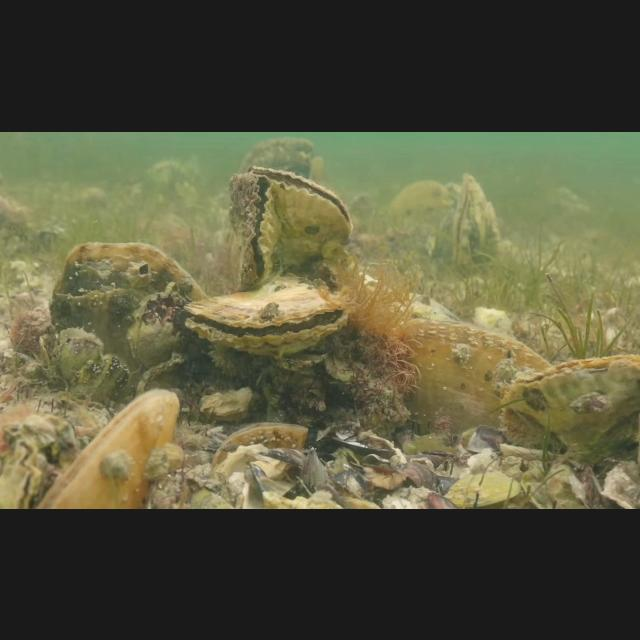Oyster-Closed: (46, 238, 210, 374), (391, 314, 553, 444), (33, 386, 183, 509), (496, 350, 640, 452), (448, 169, 506, 271), (210, 416, 308, 472), (74, 354, 132, 408), (136, 351, 188, 397)
Oyster-Open: (182, 276, 360, 358), (244, 162, 350, 268), (226, 172, 282, 288), (0, 423, 40, 509), (55, 326, 105, 384)
